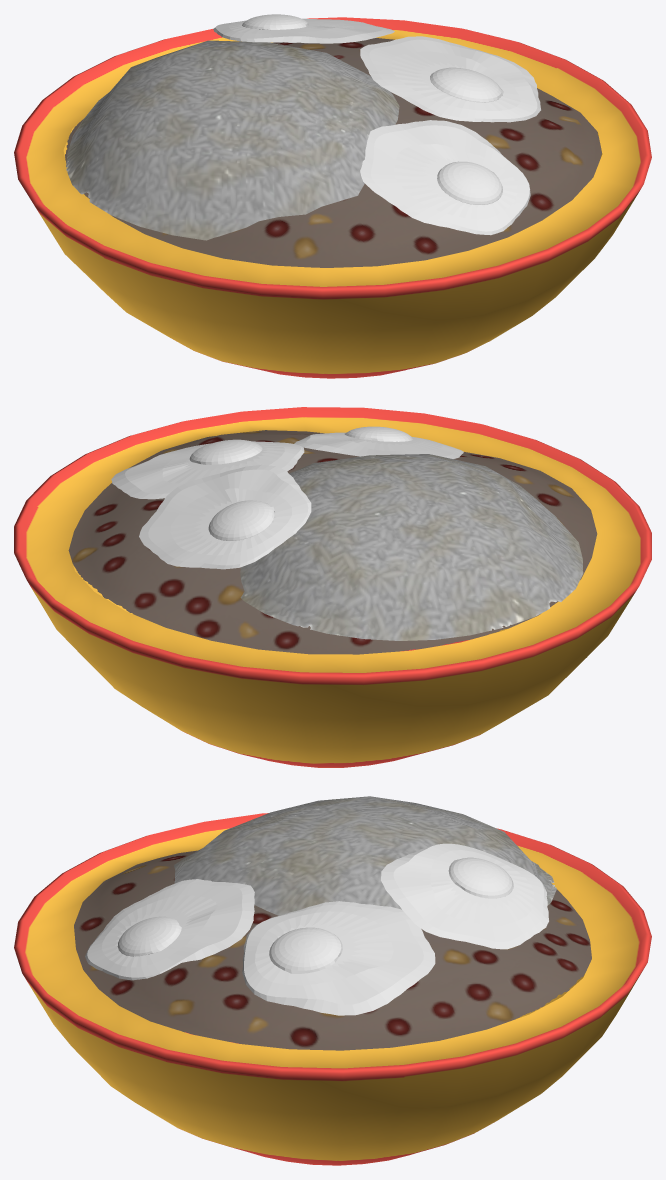
File: Calentao.fbx
3 renders of one model, top to bottom at view 1: azimuth 30°, elevation 25°; view 2: azimuth 150°, elevation 25°; view 3: azimuth 270°, elevation 25°, orthographic.
Parts seen in each view (by area): view 1: frijol.003; view 2: frijol.003; view 3: frijol.003.
Part boxes in pixels (x1=…): frijol.003: x1=14, y1=14, x2=651, y2=378; frijol.003: x1=14, y1=407, x2=651, y2=767; frijol.003: x1=14, y1=796, x2=651, y2=1165.
Bounding box in the file's own units: 582 × 260 × 582.
Materials: 3 (2 with a texture image).
